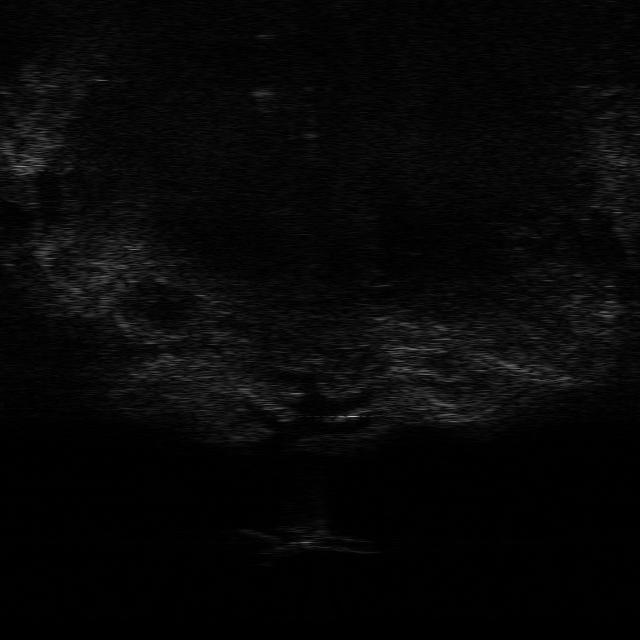plane: (236, 526, 379, 556)
